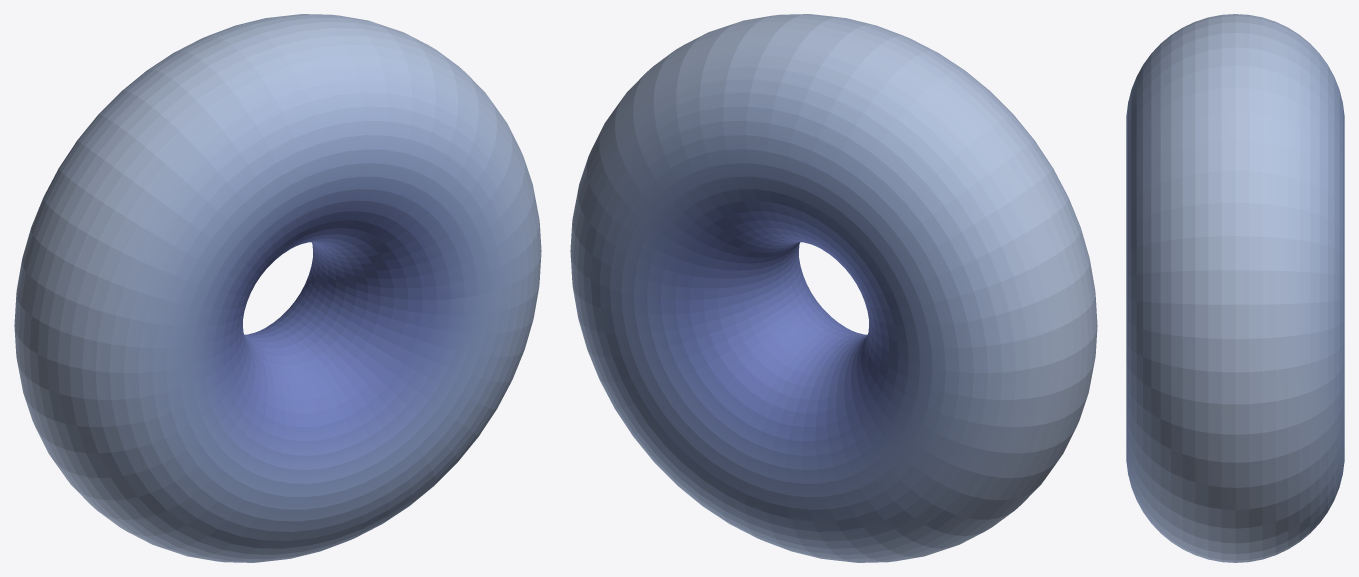
3 renders of one model, left to right at view 1: azimuth 30°, elevation 25°; view 2: azimuth 150°, elevation 25°; view 3: azimuth 270°, elevation 25°, orthographic. The views are drawn at different scales.
Visible parts, largest first — view 1: world; view 2: world; view 3: world.
Boxes of the visible parts, x1=… form: world: x1=14, y1=14, x2=541, y2=562; world: x1=570, y1=14, x2=1097, y2=562; world: x1=1126, y1=14, x2=1344, y2=562.
Bounding box in the file's own units: 17.73 × 17.7 × 7.05.
